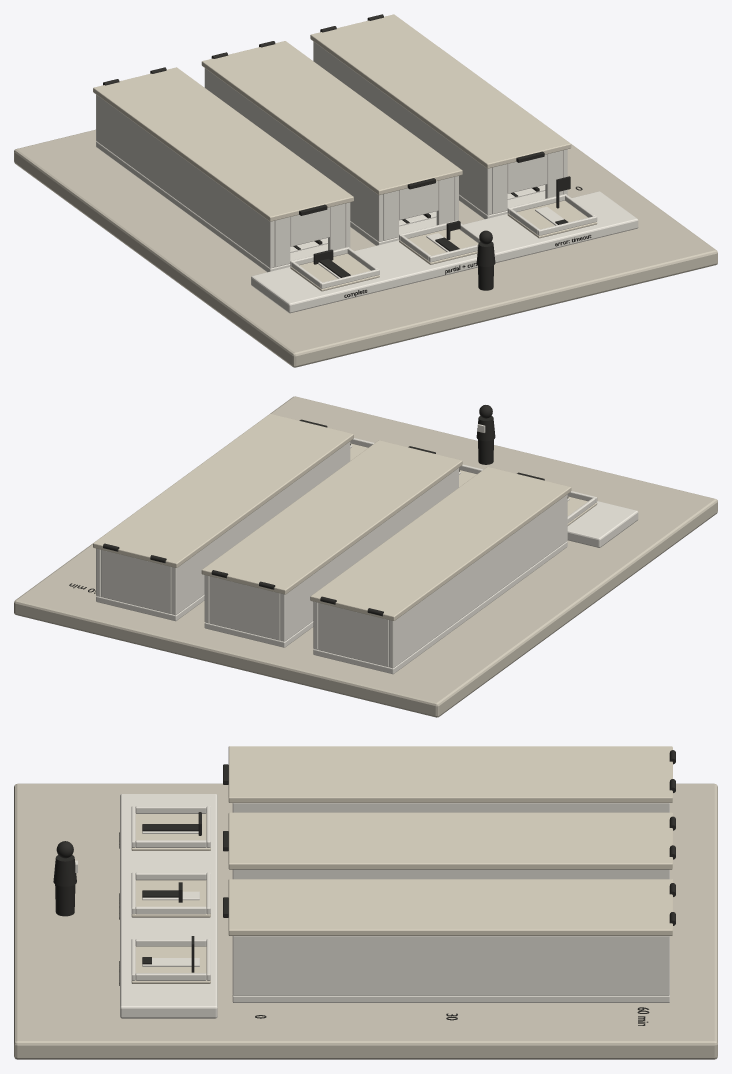
3 views of the same model, one above another, from view 1: azimuth 30°, elevation 25°; view 2: azimuth 150°, elevation 25°; view 3: azimuth 270°, elevation 25° (orthographic). The views are drawn at different scales.
Visible parts, largest first — view 1: Plinth, Lid_3, Lid_2, Lid_1, Counter, Housing_1_wallW, Housing_2_wallW, Housing_3_wallW, Housing_1_base, Housing_3_frontTop, Housing_1_frontTop, Housing_2_frontTop (+11 smaller); view 2: Plinth, Lid_2, Lid_1, Lid_3, Housing_1_wallW, Housing_3_wallW, Housing_2_wallW, Housing_2_back, Housing_3_back, Housing_1_back, Counter, Housing_1_base (+2 smaller); view 3: Plinth, Housing_3_wallE, Lid_2, Lid_1, Lid_3, Counter, Housing_2_wallE, Housing_1_wallE, Housing_3_base, Tray_2_base, Tray_3_base, Tray_1_base (+8 smaller).
Part boxes in pixels (x1,y1,x2,y2): Plinth: (14, 67, 717, 367); Lid_3: (310, 14, 571, 168); Lid_2: (201, 41, 462, 195); Lid_1: (93, 67, 353, 221); Counter: (251, 191, 638, 313); Housing_1_wallW: (96, 94, 274, 268); Housing_2_wallW: (204, 68, 383, 241); Housing_3_wallW: (313, 41, 491, 215); Housing_1_base: (96, 141, 327, 272); Housing_3_frontTop: (507, 154, 547, 193); Housing_1_frontTop: (290, 207, 329, 246); Housing_2_frontTop: (399, 181, 438, 220); Plinth: (14, 396, 717, 717); Lid_2: (201, 440, 462, 594); Lid_1: (310, 467, 571, 620); Lid_3: (93, 414, 353, 567); Housing_1_wallW: (389, 494, 567, 668); Housing_3_wallW: (171, 441, 350, 615); Housing_2_wallW: (280, 468, 458, 641); Housing_2_back: (209, 576, 280, 640); Housing_3_back: (101, 550, 171, 613); Housing_1_back: (318, 603, 388, 667); Counter: (567, 501, 638, 547); Housing_1_base: (313, 541, 567, 674); Plinth: (14, 783, 717, 1059); Housing_3_wallE: (232, 936, 669, 995); Lid_2: (228, 812, 672, 869); Lid_1: (228, 746, 672, 802); Lid_3: (228, 879, 672, 935); Counter: (120, 794, 217, 1018); Housing_2_wallE: (232, 869, 669, 879); Housing_1_wallE: (232, 803, 669, 812); Housing_3_base: (232, 995, 669, 1002); Tray_2_base: (131, 880, 210, 917); Tray_3_base: (131, 946, 210, 983); Tray_1_base: (131, 813, 210, 850).
Size of the model in its own units: 9 by 1.55 by 10.3.
